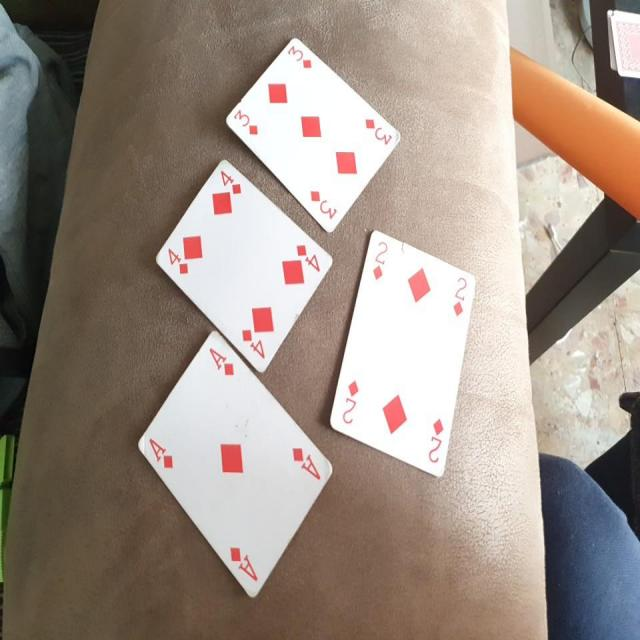2 Diamonds: (325, 226, 477, 485)
3 Diamonds: (225, 33, 402, 238)
4 Diamonds: (152, 156, 334, 380)
A Diamonds: (135, 316, 334, 612)
